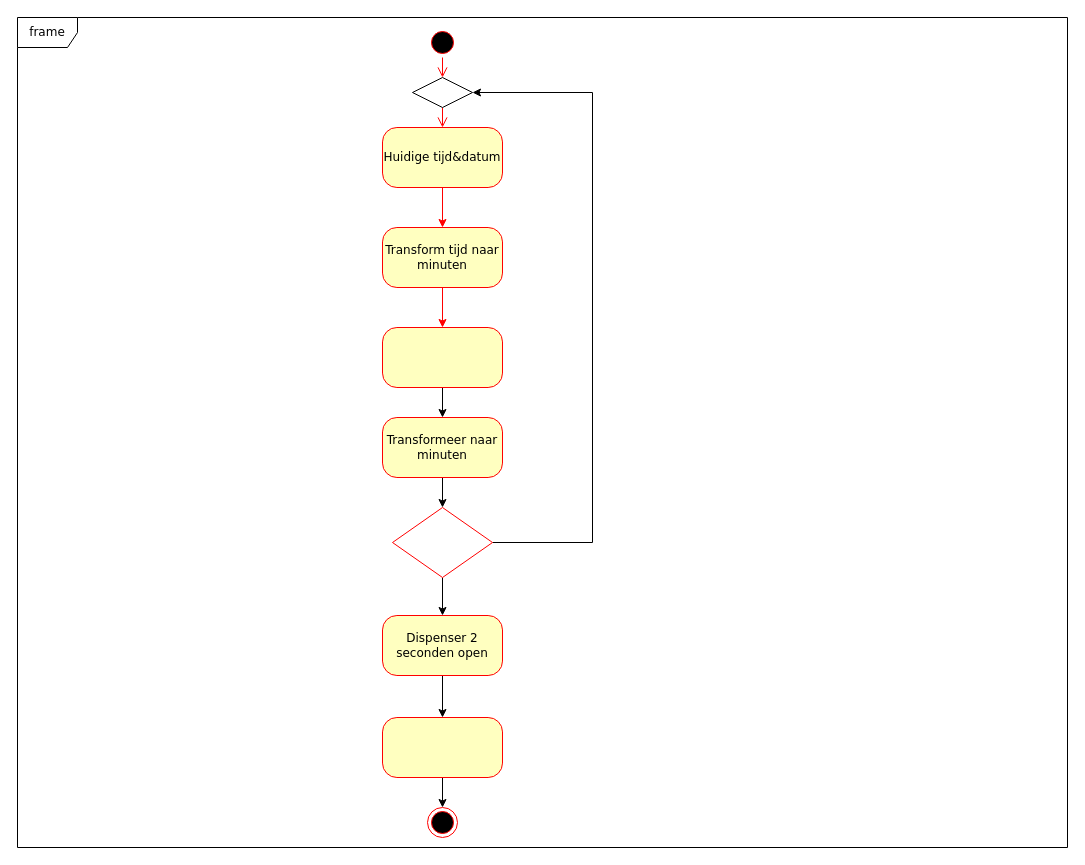
Some shapes in this 1085 by 865 pixel diagram are drawn without their labels. Each missing label, with the box of its shape:
Bepaal sunrise&sunset huidige datum: (382, 326, 502, 388)
Huidige tijd sunrise of sunset ?: (392, 506, 492, 578)
Wacht 60minuten: (382, 716, 502, 778)
